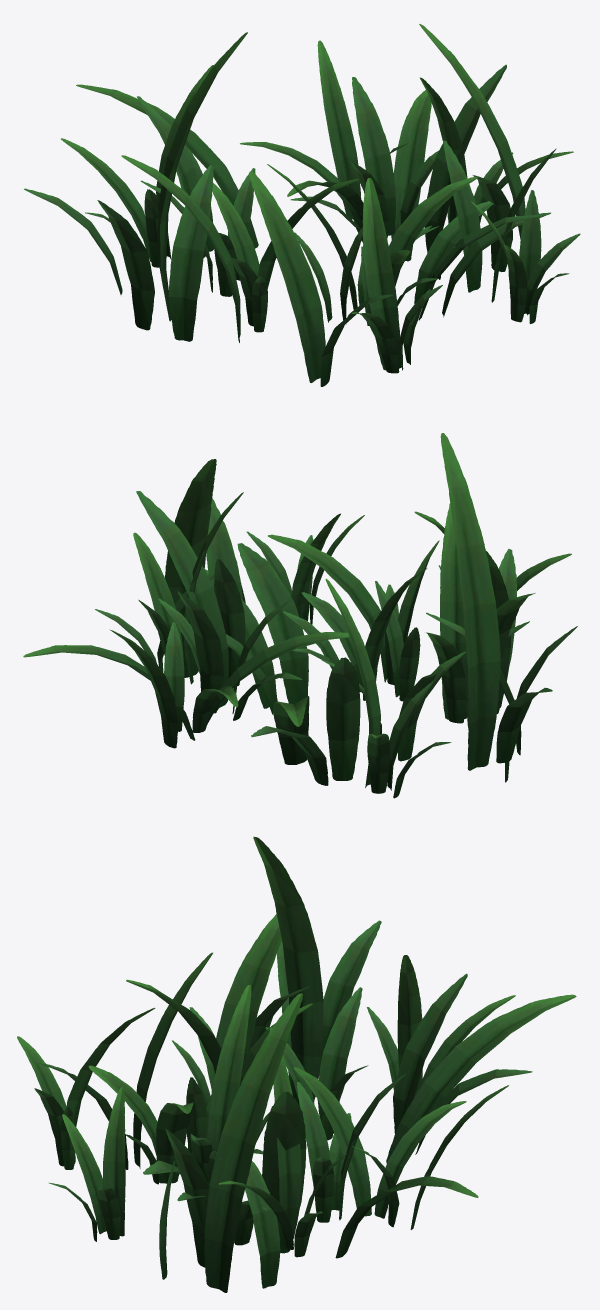
File: P_Flowerbosiju_01.obj
3 renders of one model, top to bottom at view 1: azimuth 30°, elevation 25°; view 2: azimuth 150°, elevation 25°; view 3: azimuth 270°, elevation 25°, orthographic. The views are drawn at different scales.
Bounding box in the file's own units: 0.7669 × 0.4953 × 0.7512.
Materials: 1 (1 with a texture image).
